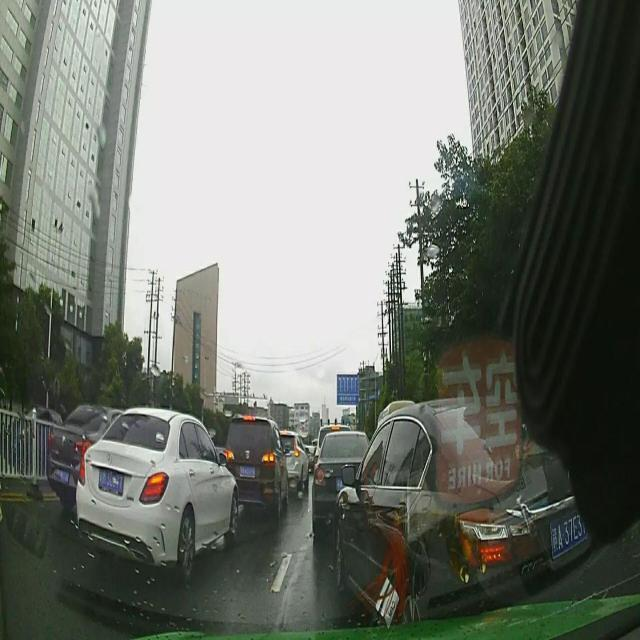car: (334, 398, 614, 626), (74, 410, 240, 574), (44, 402, 148, 504), (219, 416, 284, 532), (310, 428, 368, 534), (280, 425, 310, 488)
